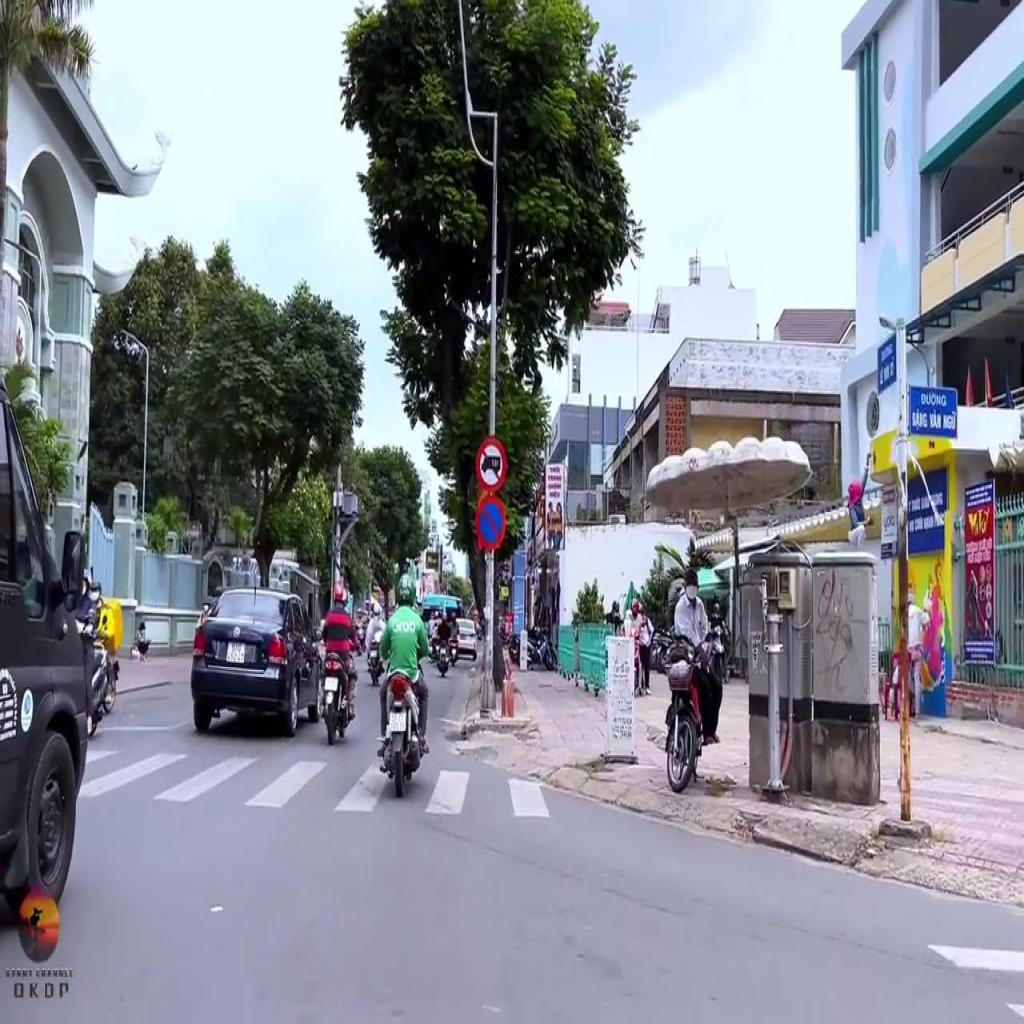cam_do_xe: (476, 495, 506, 550)
cam_o_to_tai: (476, 438, 507, 494)
